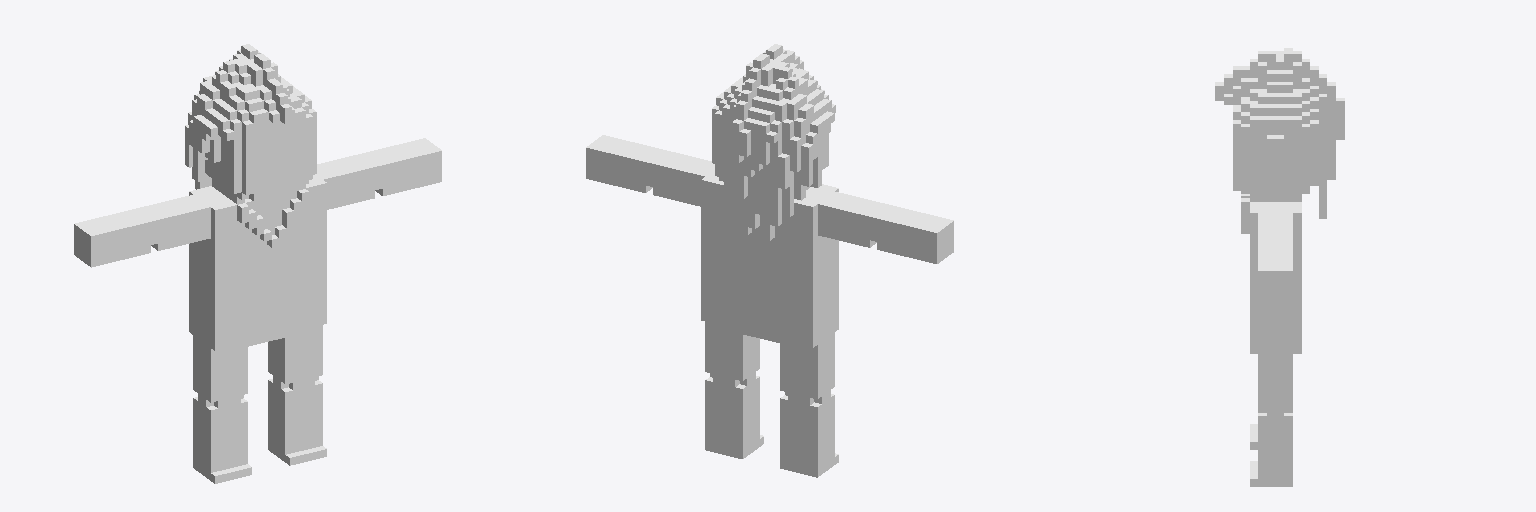
File: character15.obj
3 renders of one model, left to right at view 1: azimuth 30°, elevation 25°; view 2: azimuth 150°, elevation 25°; view 3: azimuth 270°, elevation 25°, orthographic.
Parts seen in each view (by area): view 1: object 1; view 2: object 1; view 3: object 1.
Boxes of the visible parts, box(x1,y1,x2,y2) form: object 1: box(74, 44, 441, 483); object 1: box(586, 44, 953, 477); object 1: box(1215, 48, 1344, 486).
Size of the model in its own units: 4.7 by 5.2 by 1.5.